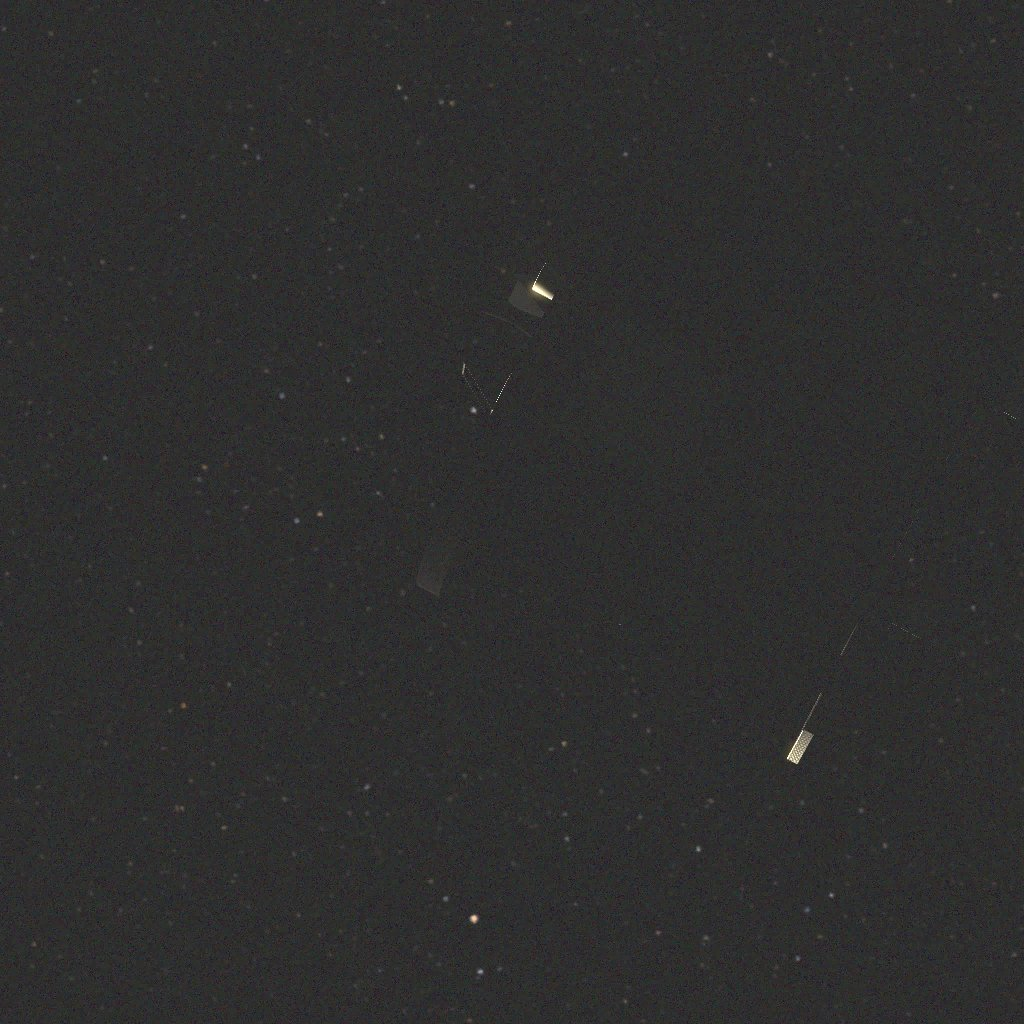proba_3_ocs: (413, 192, 990, 734)
